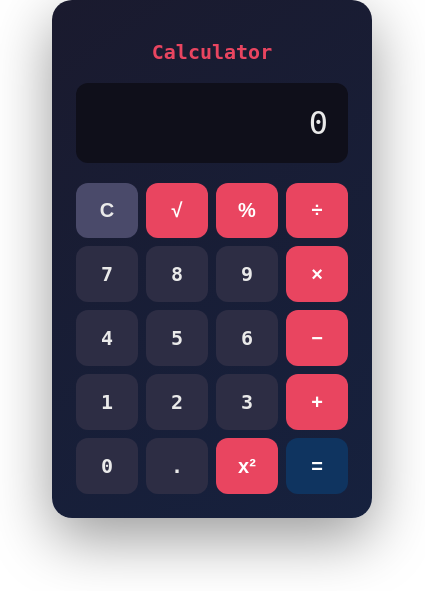
Scenario: Calculator › clears display when C is clicked
Click the button "7" at (107, 274), box [76,246,138,302]
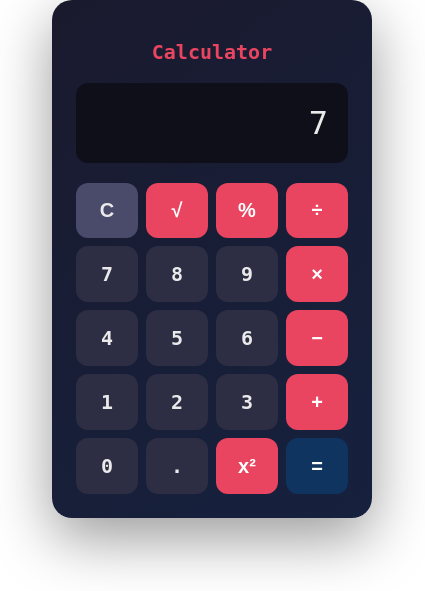
Click the button "C" at (107, 211), box [76,183,138,238]
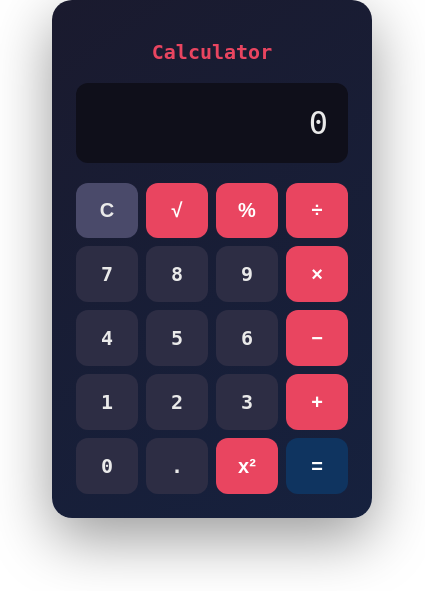
Result: the element named "Display" reads "0" at [309,104,328,142]
